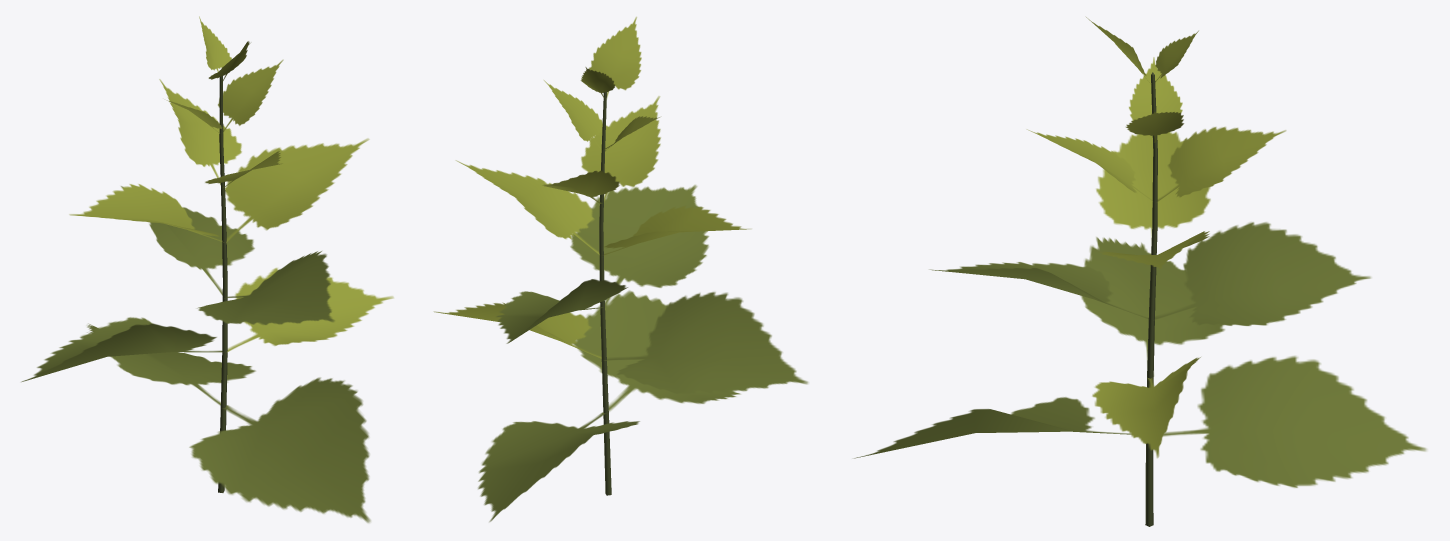
Rendered from Stinging_Nettle_1.glb.
3 views of the same model, side by side, from view 1: azimuth 30°, elevation 25°; view 2: azimuth 150°, elevation 25°; view 3: azimuth 270°, elevation 25° (orthographic). The views are drawn at different scales.
Parts seen in each view (by area): view 1: Stinging_Nettle_1; view 2: Stinging_Nettle_1; view 3: Stinging_Nettle_1.
Part boxes in pixels (x1,y1,x2,y2): Stinging_Nettle_1: [21, 16, 393, 522]; Stinging_Nettle_1: [434, 16, 808, 521]; Stinging_Nettle_1: [853, 17, 1426, 526].
Bounding box in the file's own units: 0.739 × 0.8521 × 0.8941.
1 material, 1 textured.
